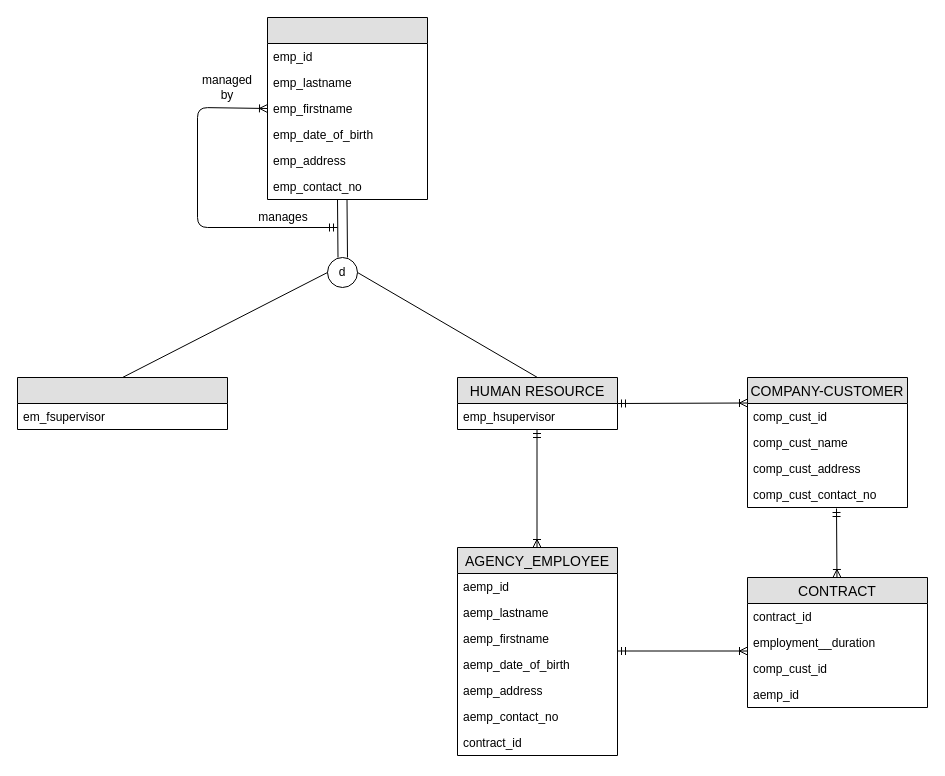
Image size: 945x776. Some labels were removed from this diagram. The box of each missing label's shape, as (x1, y1, x2, y2) in pixels:
EMPLOYEE: (266, 16, 428, 200)
FINANCE AND ACCOUNTING: (16, 376, 228, 430)
